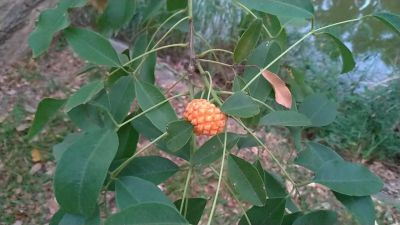eggs: (183, 96, 226, 137)
